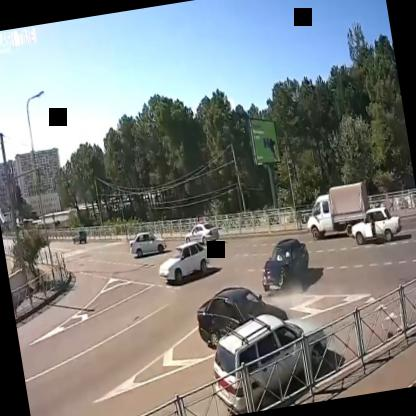accident: (184, 280, 314, 408), (256, 226, 314, 298)
